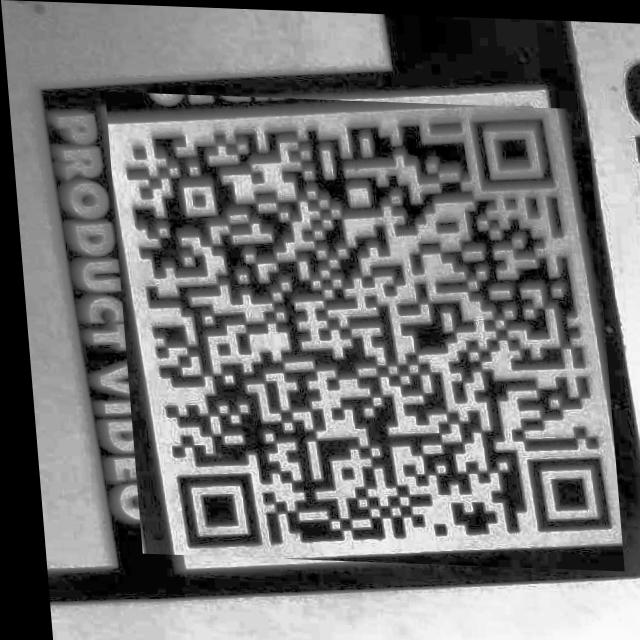qr_code: (106, 85, 610, 573)
